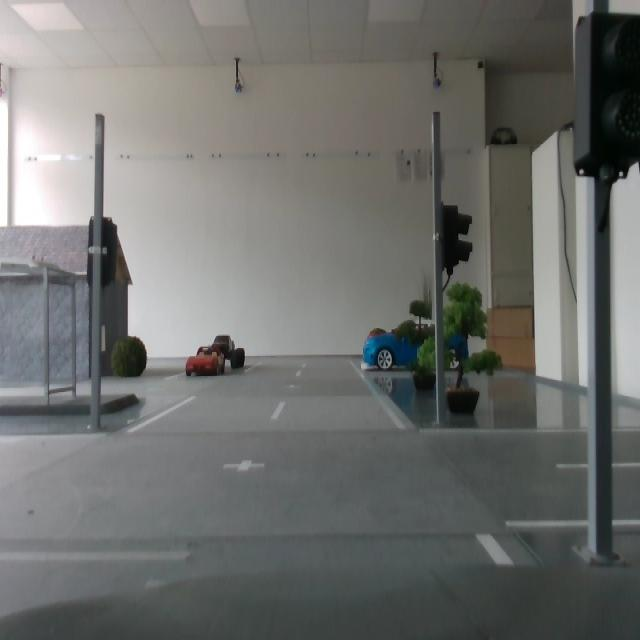car: (363, 323, 469, 371), (210, 334, 248, 370), (186, 347, 227, 379)
potted plant: (417, 281, 506, 416), (394, 299, 447, 393), (109, 334, 150, 383), (367, 328, 391, 360)
traffic light: (573, 11, 640, 183), (87, 218, 121, 291), (441, 202, 474, 276)
